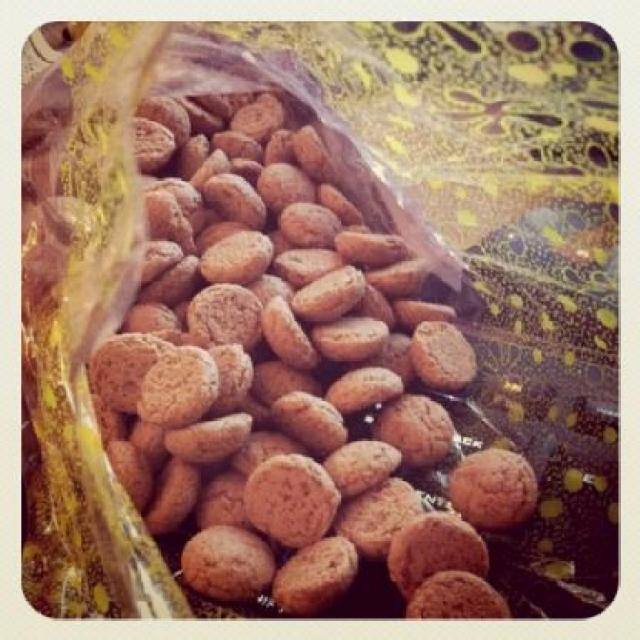Cookie: (24, 90, 541, 621), (246, 453, 337, 550)
